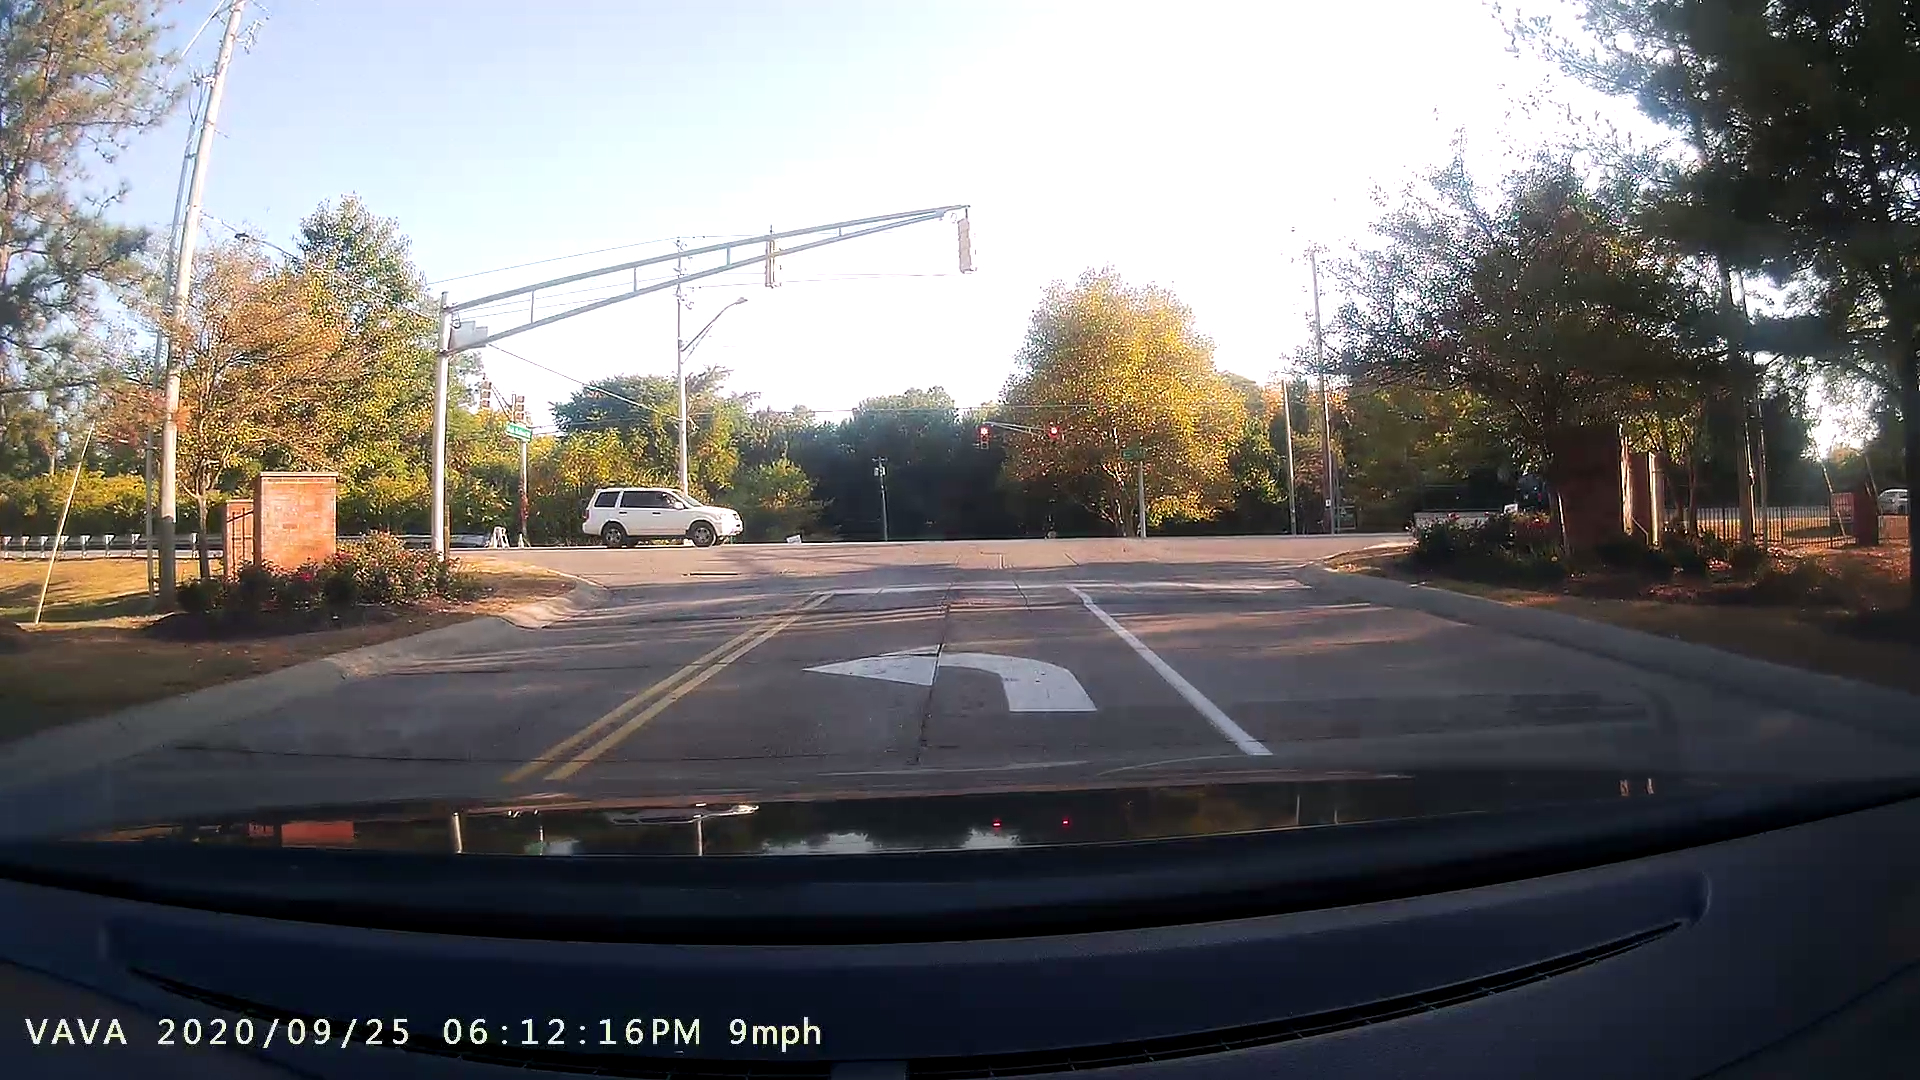left_turn: (789, 638, 1106, 720)
